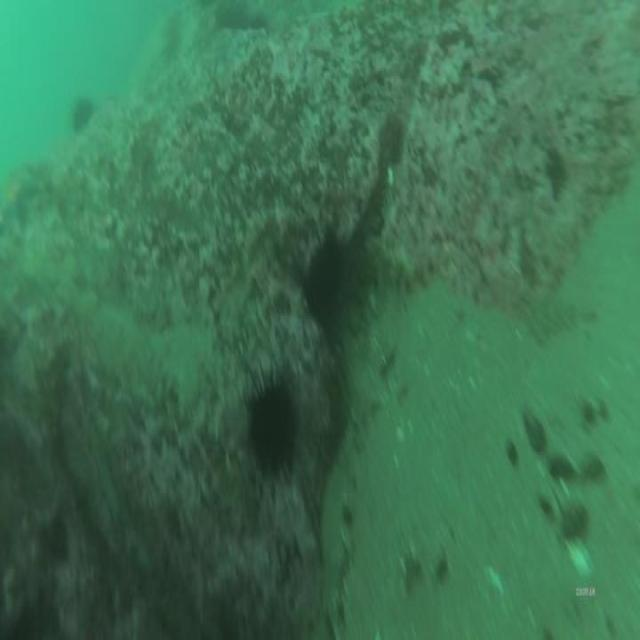echinus: (247, 371, 301, 482), (301, 218, 345, 330), (70, 93, 95, 142)
